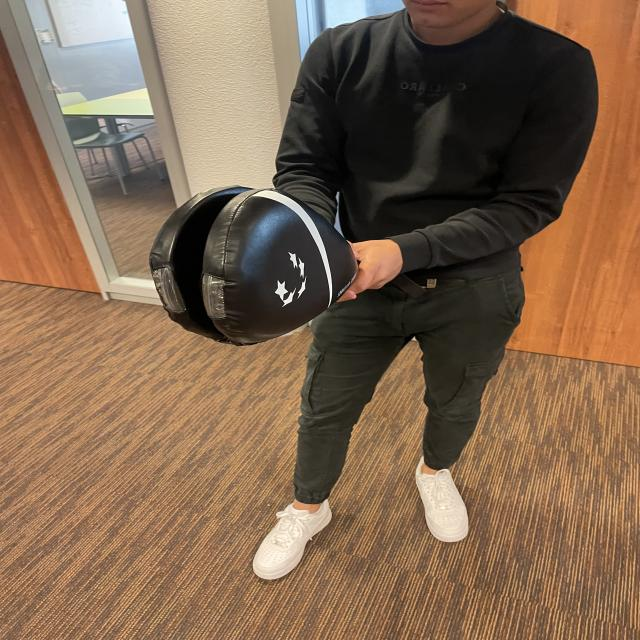paddle: (149, 184, 357, 342)
